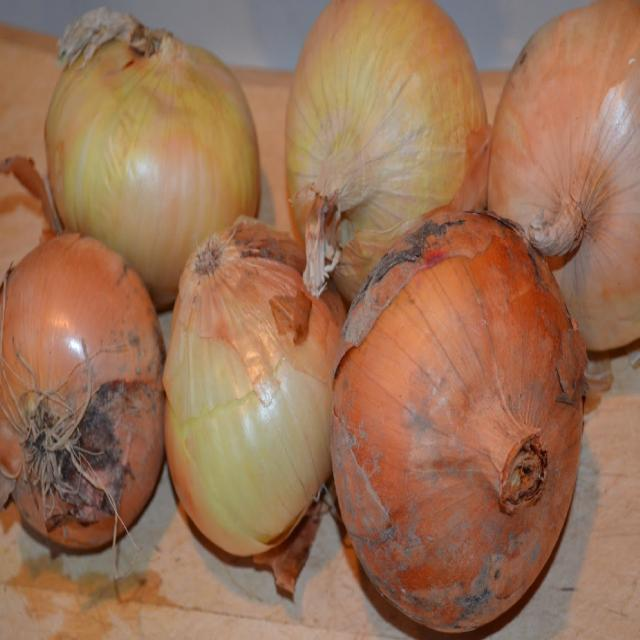rotten: (68, 380, 126, 502), (442, 554, 517, 621)
